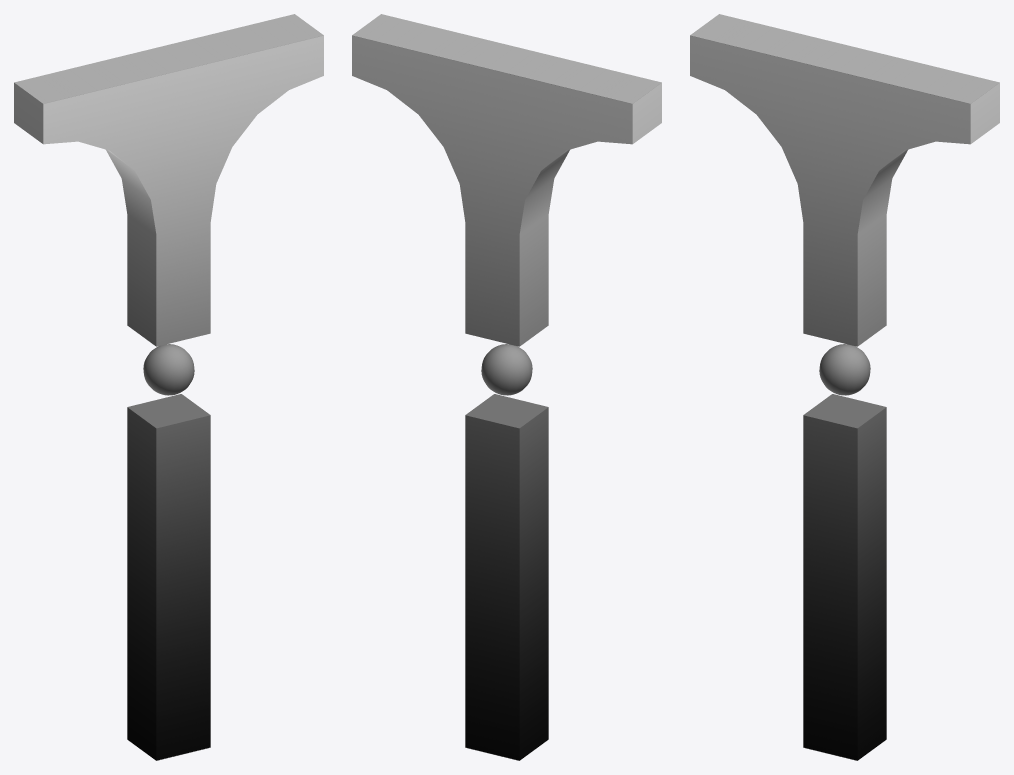
File: BG_pillier_V2.fbx
The picture shows the model from 3 angles, left to right: view 1: azimuth 30°, elevation 25°; view 2: azimuth 150°, elevation 25°; view 3: azimuth 330°, elevation 25°; orthographic projection.
Parts seen in each view (by area): view 1: BG_pillier_V2; view 2: BG_pillier_V2; view 3: BG_pillier_V2.
Boxes of the visible parts, x1=… form: BG_pillier_V2: x1=14, y1=14, x2=323, y2=760; BG_pillier_V2: x1=352, y1=14, x2=661, y2=760; BG_pillier_V2: x1=690, y1=14, x2=999, y2=760.
Size of the model in its own units: 1024 by 2386 by 185.
